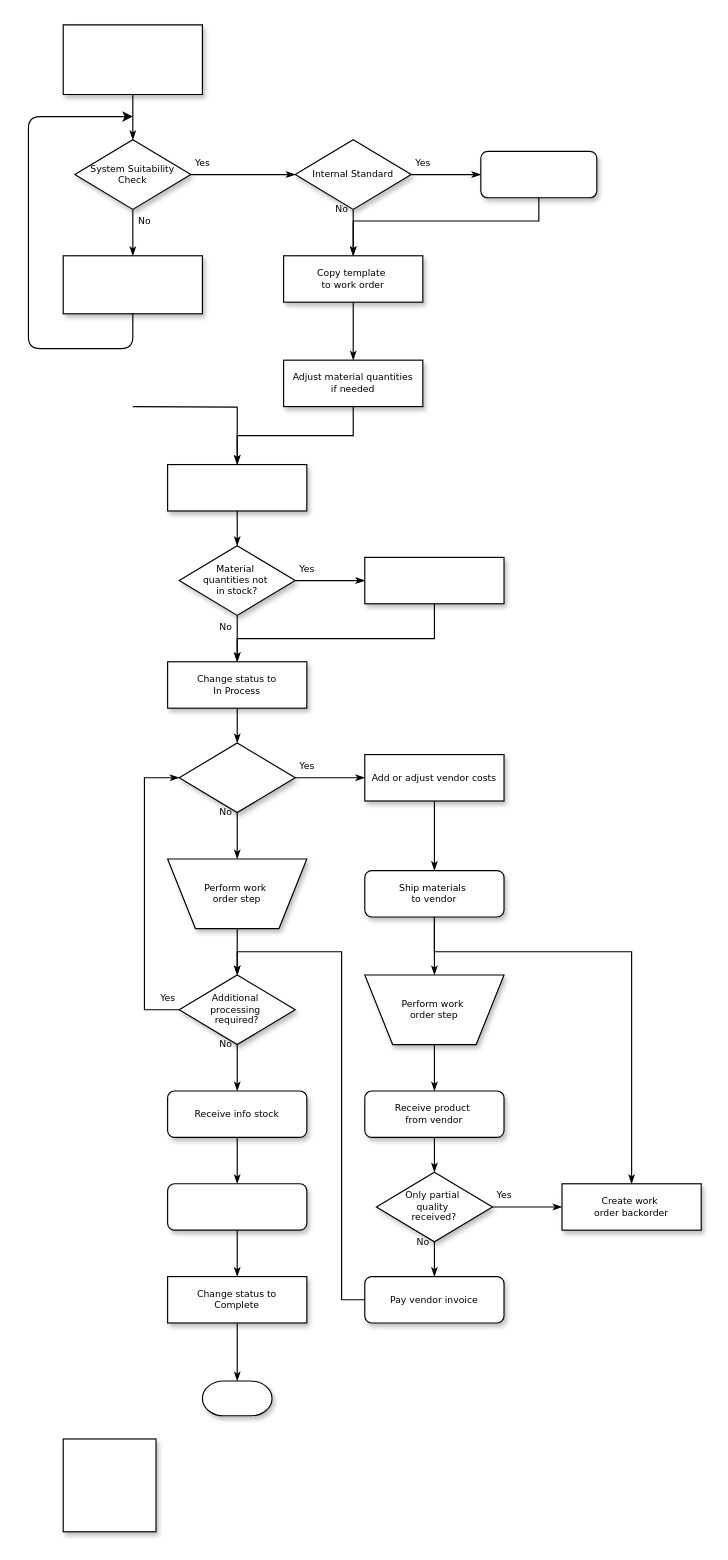
This 728x1560 diagram has some shape labels left out. The shapes that lost their labels are listed below. From the top down, each one's centre as x and y in pixels, then its label:
the point at 133,61: Untargeted Metabolomics Analysis (LC-MS based)
the point at 539,176: Create work order template
the point at 133,286: Diagnose maintain repair adjust
the point at 238,489: Monitor work orders
the point at 435,582: Procedure or transfer materials
the point at 237,779: Step performed by outside vendor?
the point at 238,1208: Ship product on order if needed
the point at 238,1399: End
